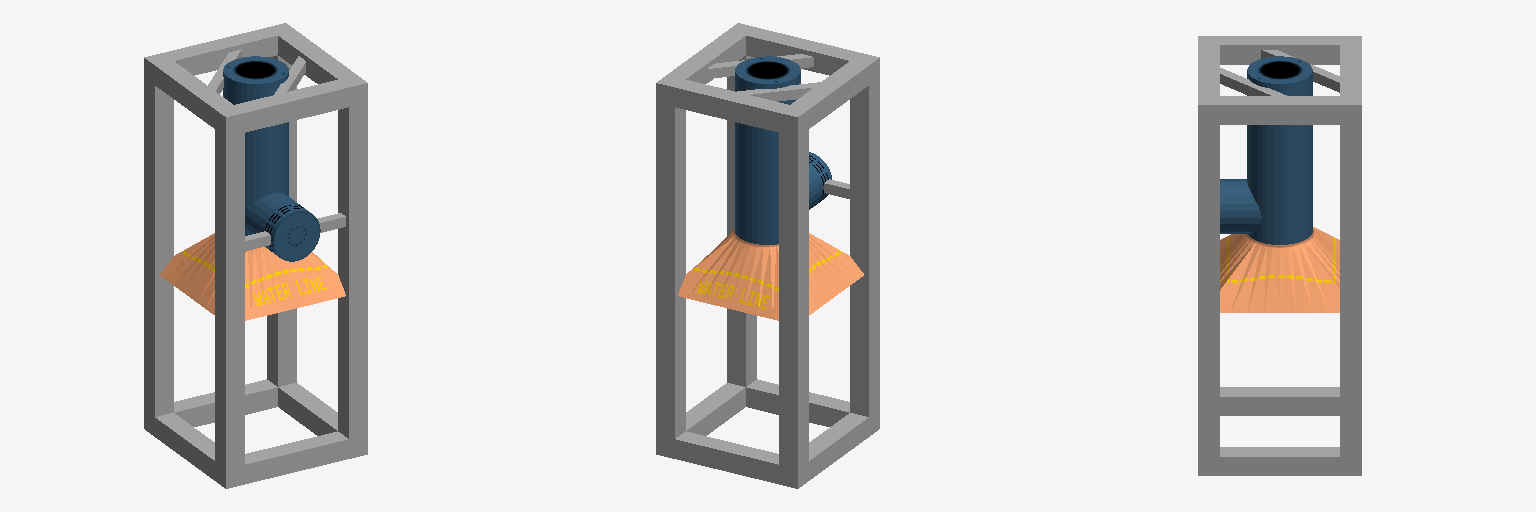
The picture shows the model from 3 angles: view 1: azimuth 30°, elevation 25°; view 2: azimuth 150°, elevation 25°; view 3: azimuth 270°, elevation 25°; orthographic projection.
Parts seen in each view (by area): view 1: Pump1; view 2: Pump1; view 3: Pump1.
Part boxes in pixels (bbox=[...]): Pump1: bbox=[144, 23, 367, 488]; Pump1: bbox=[656, 23, 879, 488]; Pump1: bbox=[1198, 36, 1361, 475].
Bounding box in the file's own units: 6 × 15 × 6.
1 materials, 1 textured.